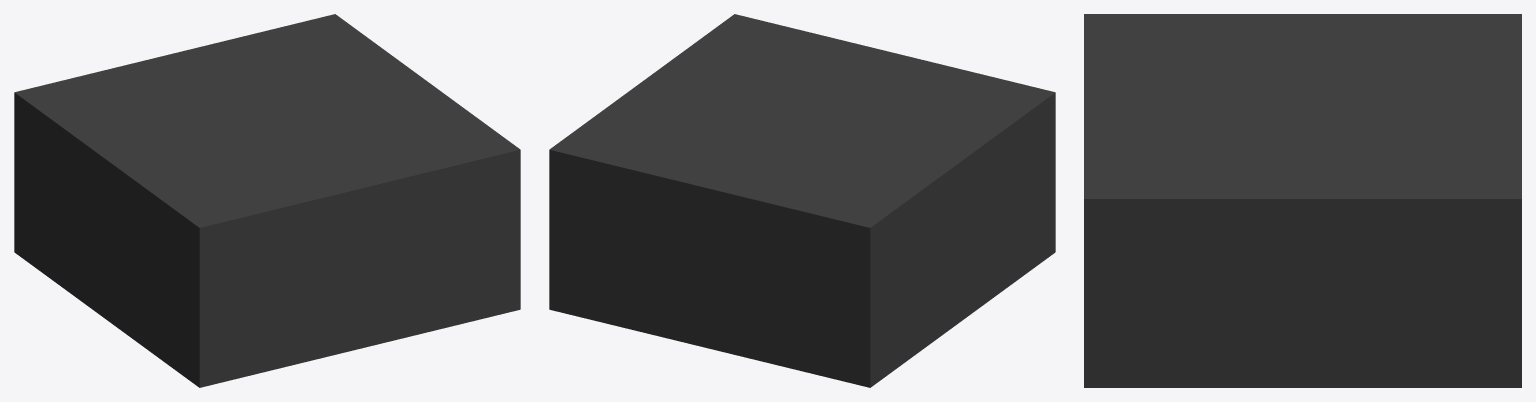
The model's file is tiles-2.obj.
The picture shows the model from 3 angles, left to right: view 1: azimuth 30°, elevation 25°; view 2: azimuth 150°, elevation 25°; view 3: azimuth 270°, elevation 25°; orthographic projection. The views are drawn at different scales.
Parts seen in each view (by area): view 1: tiles-2; view 2: tiles-2; view 3: tiles-2.
Boxes of the visible parts, x1,y1,x2,y2 form: tiles-2: (14,14,520,387); tiles-2: (549,14,1055,387); tiles-2: (1084,14,1521,387).
Size of the model in its own units: 126 by 60 by 126.
Materials: 1 (1 with a texture image).
